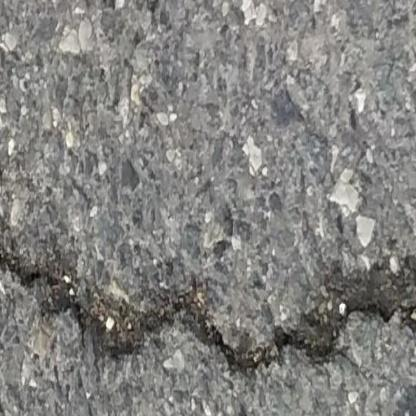Cracks: (0, 223, 416, 380), (0, 152, 5, 187)
